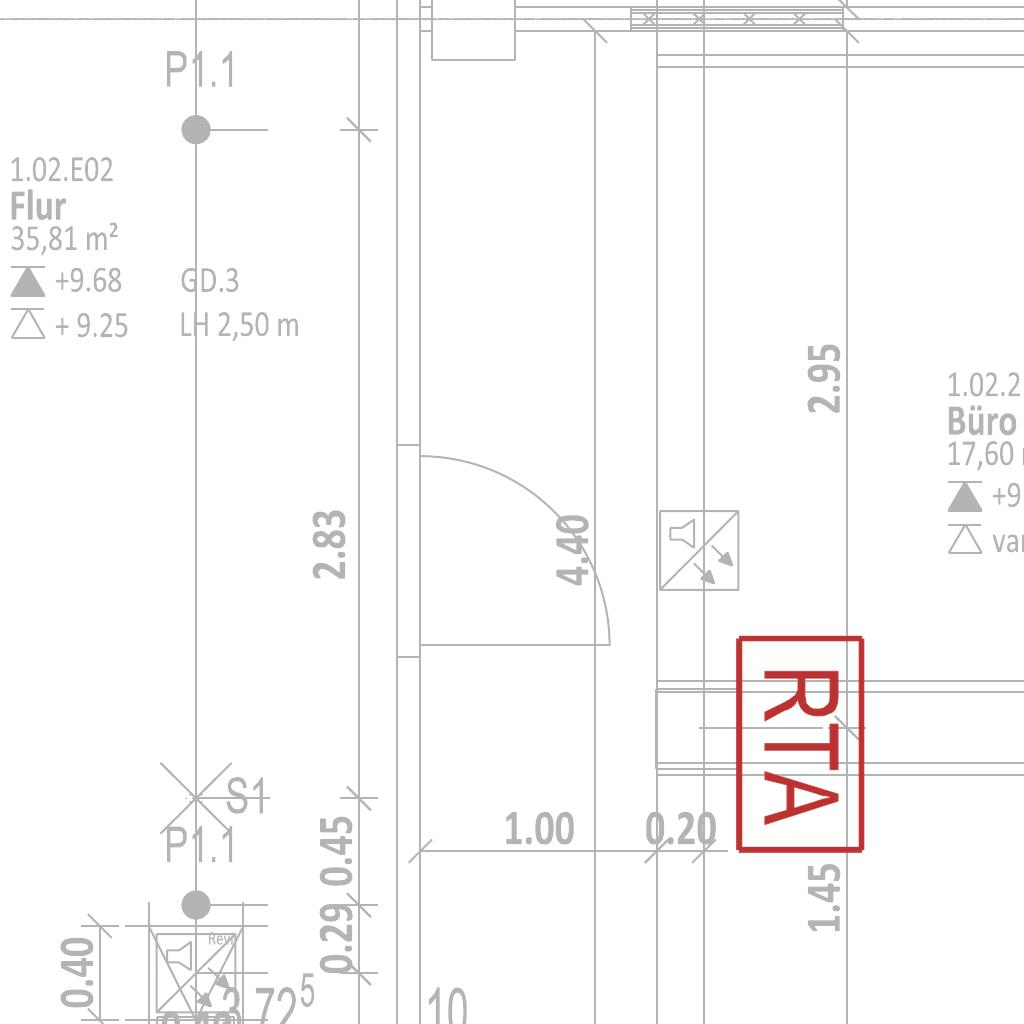Ruf-und_Abstelltaster: (731, 628, 869, 856)
